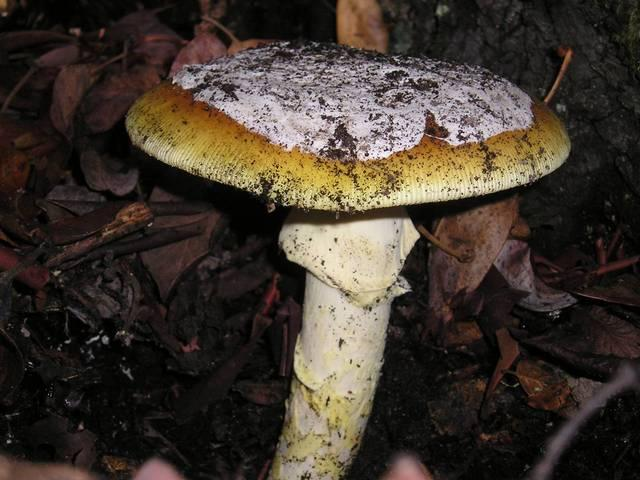Edible Mushroom: (123, 38, 571, 478)
